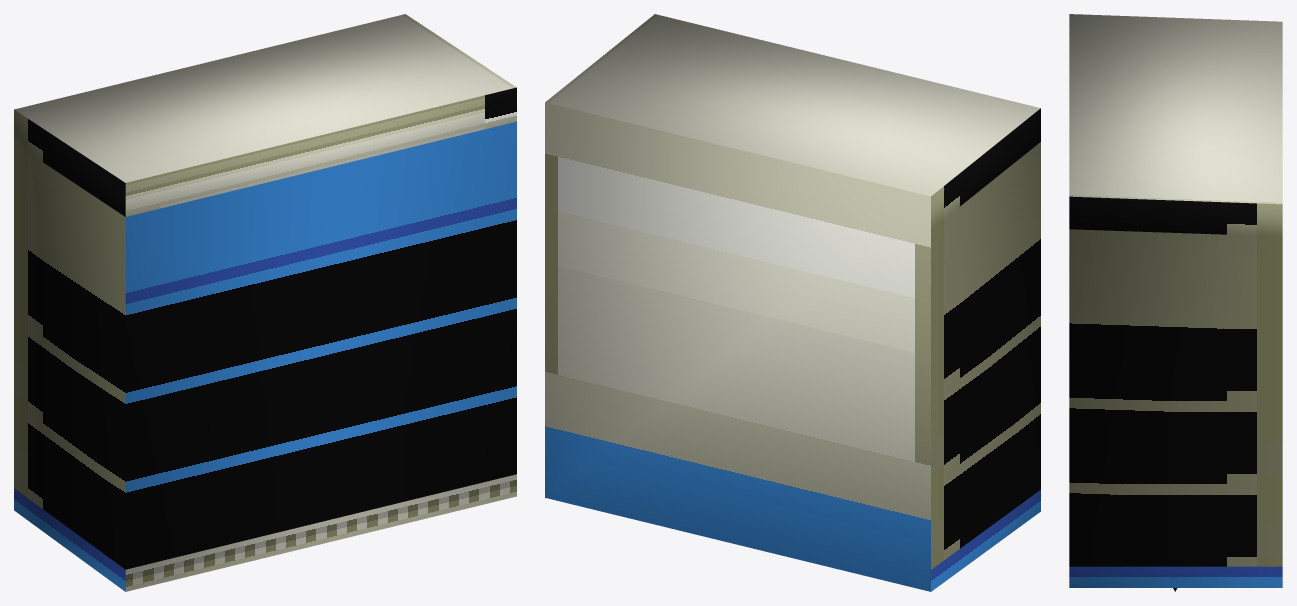
3 views of the same model, side by side, from view 1: azimuth 30°, elevation 25°; view 2: azimuth 150°, elevation 25°; view 3: azimuth 270°, elevation 25° (orthographic). The views are drawn at different scales.
Visible parts, largest first — view 1: 3398IMIG19_06; view 2: 3398IMIG19_06; view 3: 3398IMIG19_06.
Boxes of the visible parts, <box> form: 3398IMIG19_06: <box>14,14,516,591</box>; 3398IMIG19_06: <box>545,14,1040,591</box>; 3398IMIG19_06: <box>1069,14,1282,591</box>.
Size of the model in its own units: 1.9 by 2.04 by 0.9368.
Materials: 4 (4 with a texture image).
